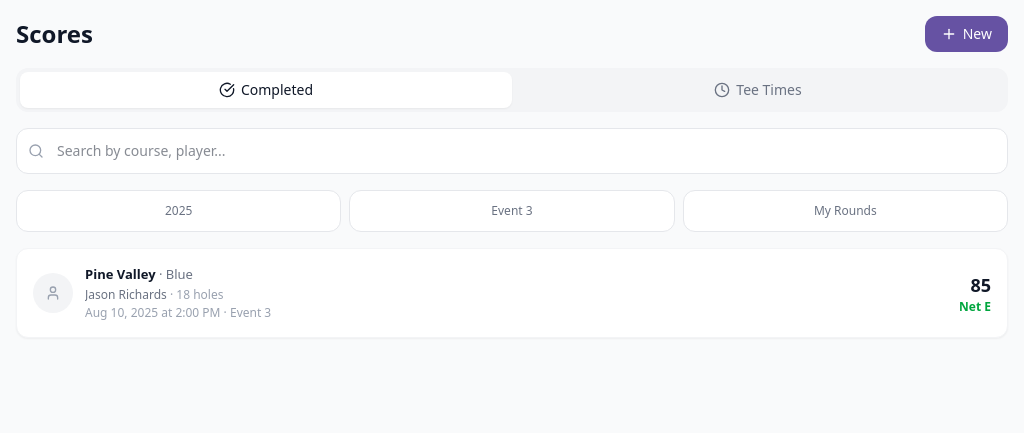
Test: Scores Page - Default to Current Event › allows user to override the default by selecting a different event
Select "All Events" in the 2nd dropdown: [512, 211] box [349,190,675,232]
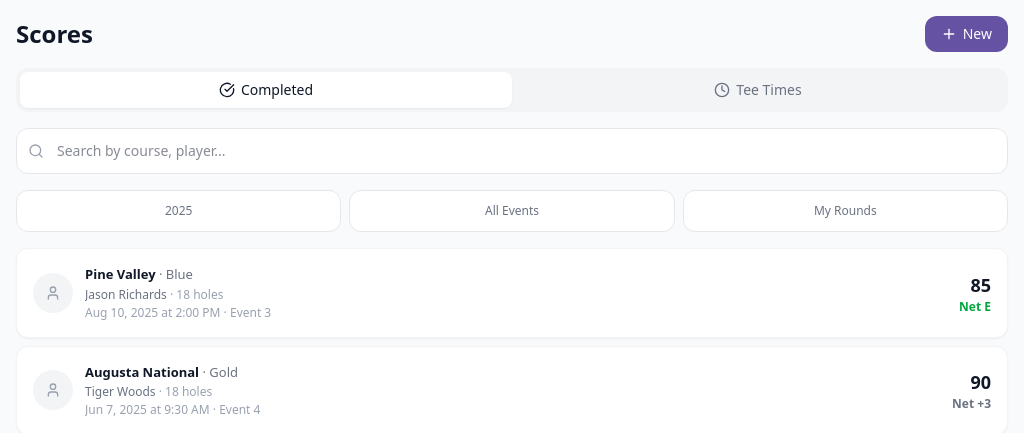
Check: the text "Pine Valley" is shown, box [85,265,156,283]
Check: the text "Augusta National" is shown, box [85,362,199,380]
